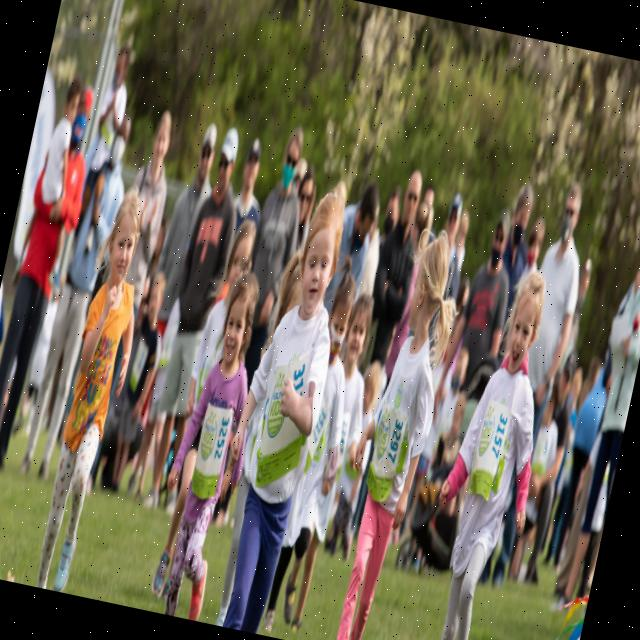Person: (193, 170, 367, 637), (315, 223, 471, 640), (403, 263, 575, 640), (28, 188, 163, 596), (140, 262, 282, 624), (130, 121, 256, 520), (19, 101, 136, 488), (148, 212, 262, 598), (262, 260, 378, 639), (0, 75, 107, 475), (284, 288, 393, 640), (68, 40, 137, 263), (34, 74, 92, 218), (0, 219, 27, 455)
